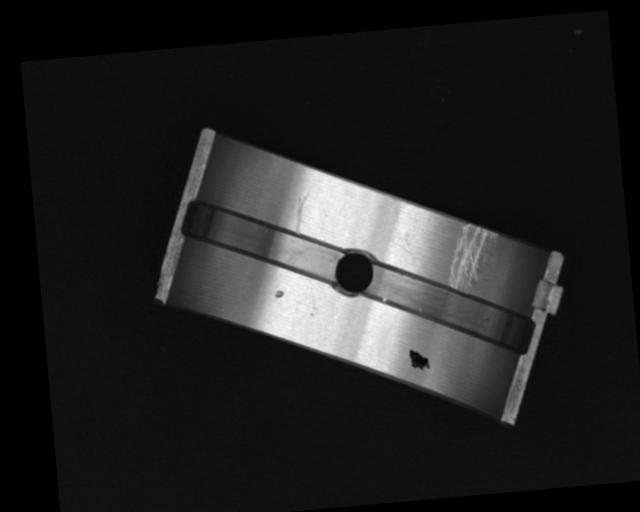blot: (406, 346, 431, 372)
bruise: (273, 290, 284, 299)
gap: (363, 254, 537, 367), (178, 190, 348, 290)
hole: (331, 248, 375, 296)
nick: (290, 188, 314, 233)
scratch: (443, 222, 501, 291)
